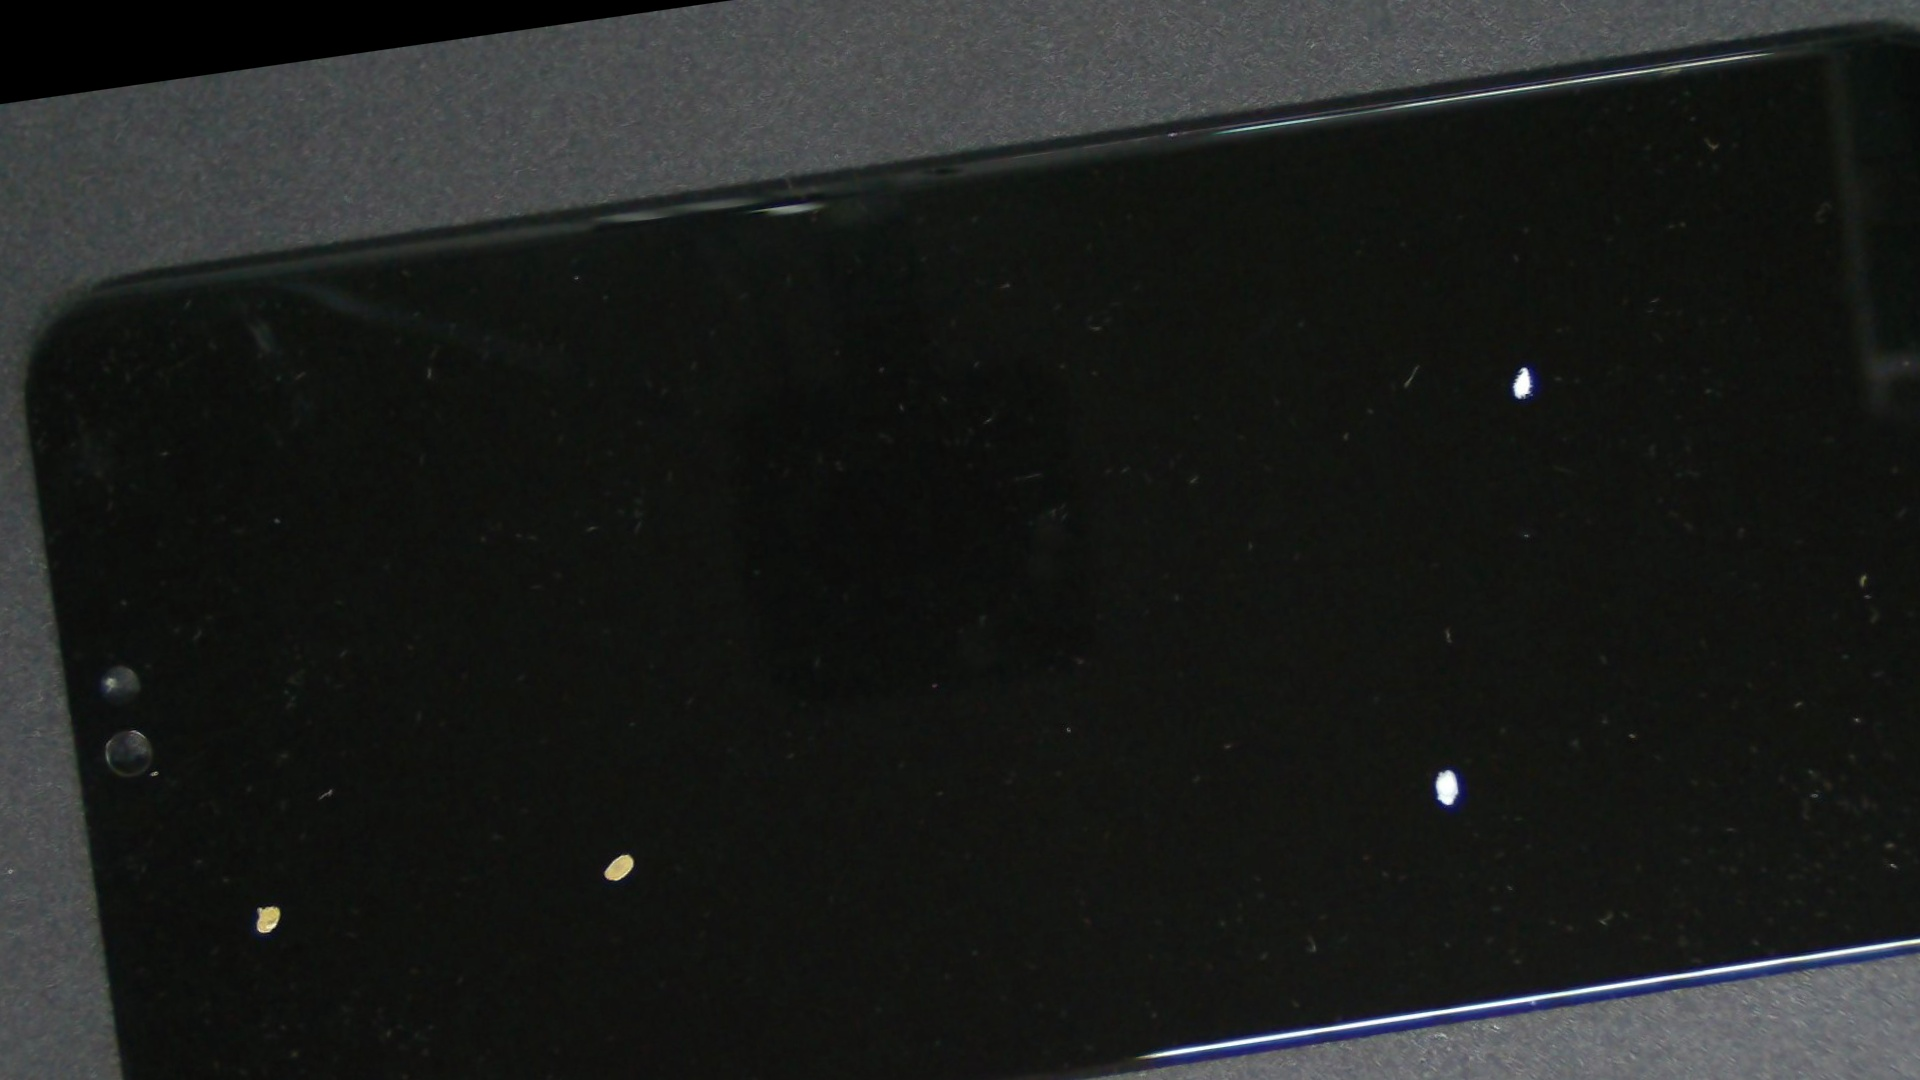oil: (638, 237, 1920, 1080), (678, 46, 1920, 717), (231, 393, 1023, 1080), (47, 472, 473, 1080)
